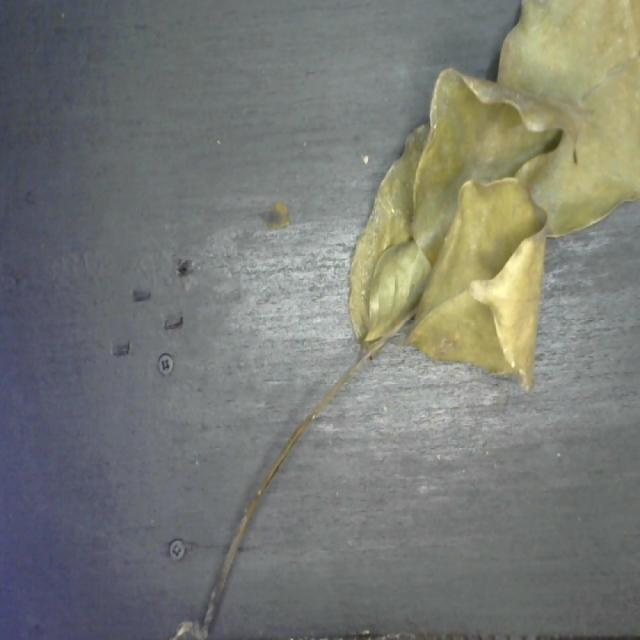biodegradable: (339, 0, 640, 396)
